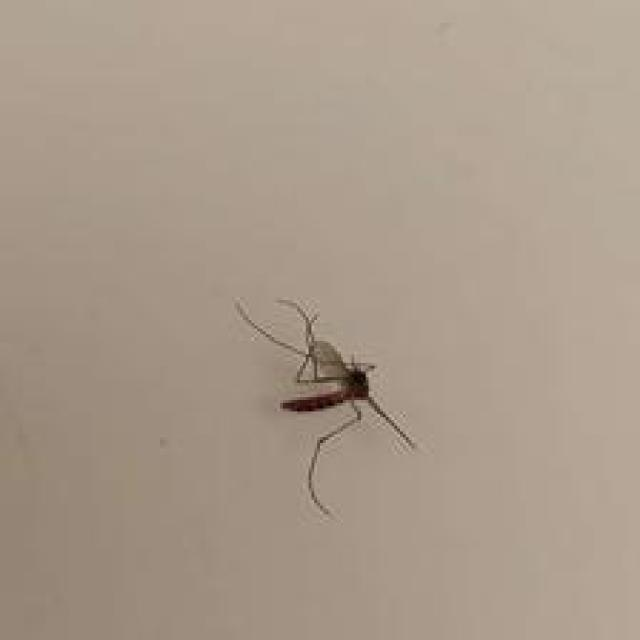Culex: (233, 294, 416, 517)
